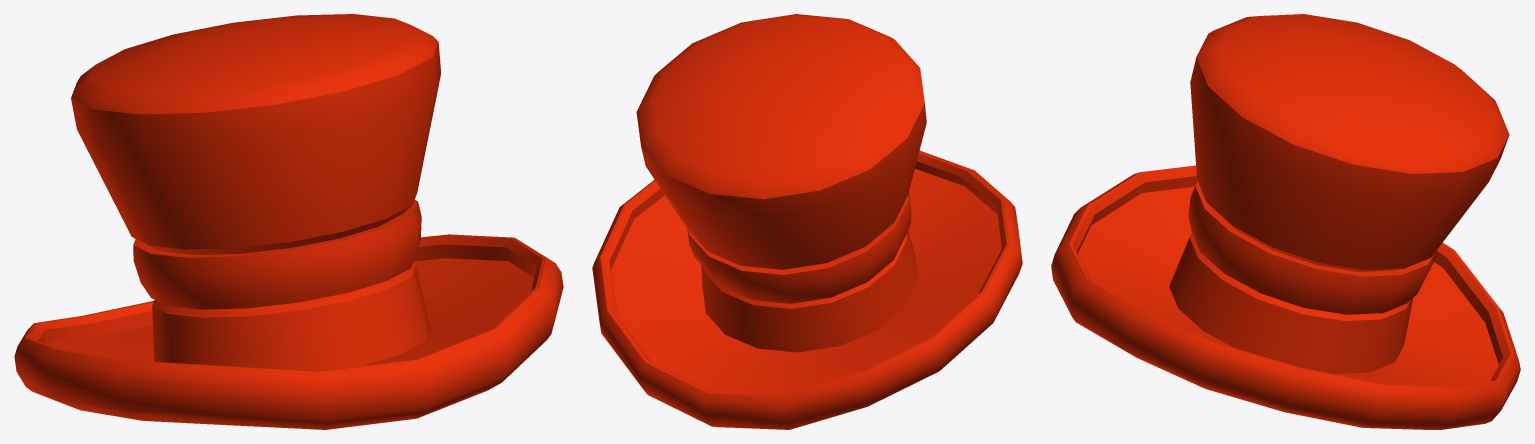
The model's file is Galera.fbx.
The picture shows the model from 3 angles, left to right: view 1: azimuth 30°, elevation 25°; view 2: azimuth 150°, elevation 25°; view 3: azimuth 270°, elevation 25°; orthographic projection. The views are drawn at different scales.
Visible parts, largest first — view 1: TopHat; view 2: TopHat; view 3: TopHat.
Boxes of the visible parts, x1,y1,x2,y2 form: TopHat: (14, 14, 563, 429); TopHat: (592, 14, 1022, 429); TopHat: (1051, 14, 1520, 429).
Bounding box in the file's own units: 158 × 126 × 154.
